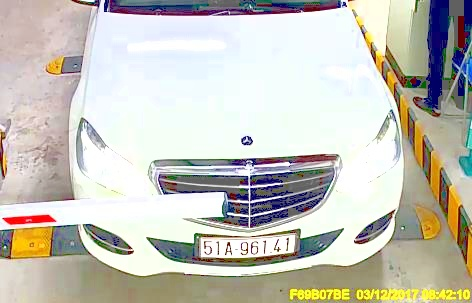plate: (194, 230, 299, 260)
